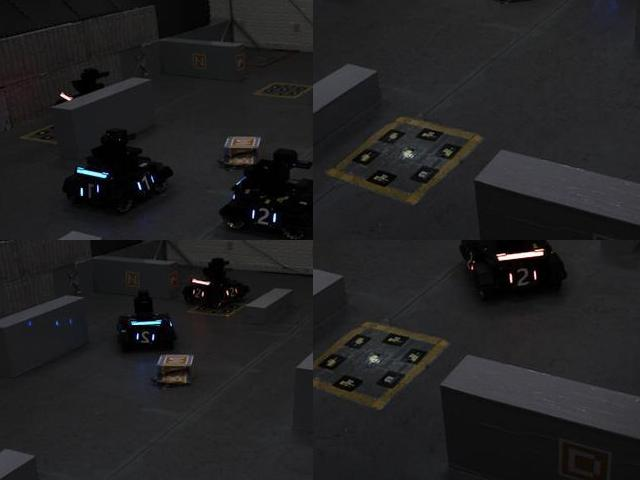armor: (247, 203, 280, 233), (503, 265, 541, 290), (76, 180, 105, 206), (133, 168, 158, 198), (132, 325, 161, 346), (222, 282, 242, 300), (188, 285, 205, 300)
